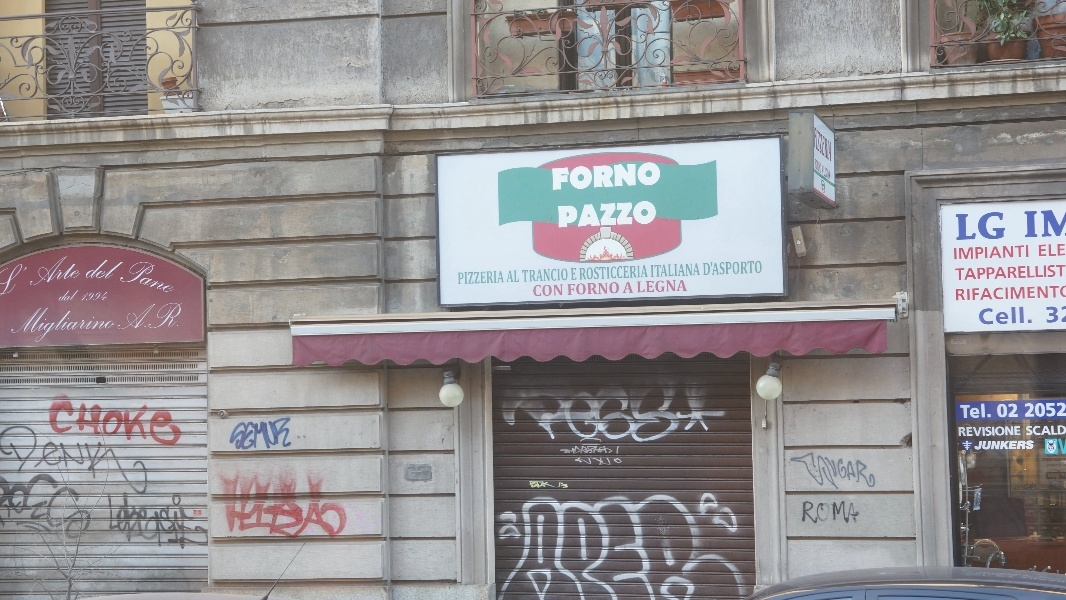text: (529, 493, 544, 599), (545, 493, 560, 599), (561, 493, 576, 599), (577, 493, 592, 599), (593, 493, 608, 599), (609, 493, 624, 599), (625, 493, 640, 599), (641, 493, 656, 599), (657, 493, 672, 599), (673, 493, 688, 599), (689, 493, 704, 599), (705, 493, 720, 599), (721, 493, 736, 599), (737, 493, 752, 599), (497, 379, 512, 451), (513, 379, 528, 451), (529, 379, 544, 451), (545, 379, 560, 451), (561, 379, 576, 451), (577, 379, 592, 451), (593, 379, 608, 451), (609, 379, 624, 451), (625, 379, 640, 451), (641, 379, 656, 451), (657, 379, 672, 451), (673, 379, 688, 451), (689, 379, 704, 451), (705, 379, 720, 451), (721, 379, 736, 451), (17, 425, 32, 497), (33, 425, 48, 497), (49, 425, 64, 497), (65, 425, 80, 497), (81, 425, 96, 497), (97, 425, 112, 497), (113, 425, 128, 497), (129, 425, 144, 497), (145, 425, 160, 497), (225, 475, 240, 545), (241, 475, 256, 545), (257, 475, 272, 545), (273, 475, 288, 545), (289, 475, 304, 545), (305, 475, 320, 545), (321, 475, 336, 545), (337, 475, 352, 545), (1, 473, 16, 541), (17, 473, 32, 541), (33, 473, 48, 541), (49, 473, 64, 541), (65, 473, 80, 541), (81, 473, 96, 541), (2, 425, 16, 497), (113, 492, 128, 553), (129, 492, 144, 553), (145, 492, 160, 553), (161, 492, 176, 553), (177, 492, 192, 553), (193, 492, 208, 553), (65, 395, 80, 448), (81, 395, 96, 448), (97, 395, 112, 448), (113, 395, 128, 448), (129, 395, 144, 448), (145, 395, 160, 448), (161, 395, 176, 448), (50, 395, 64, 448), (801, 449, 816, 491), (817, 449, 832, 491), (833, 449, 848, 491), (849, 449, 864, 491), (865, 449, 880, 491), (145, 256, 160, 295), (161, 256, 176, 295), (33, 306, 48, 345), (49, 306, 64, 345), (65, 306, 80, 345), (81, 306, 96, 345), (97, 306, 112, 345), (49, 254, 64, 291), (65, 254, 80, 291), (241, 418, 256, 454), (257, 418, 272, 454), (273, 418, 288, 454), (817, 127, 832, 163), (523, 493, 528, 599), (788, 449, 800, 491), (2, 263, 16, 298), (641, 201, 657, 231), (177, 395, 186, 448), (561, 201, 576, 231), (577, 201, 592, 231), (593, 201, 608, 231), (609, 201, 624, 231), (625, 201, 640, 231), (1025, 210, 1040, 240), (1041, 210, 1056, 240), (145, 302, 160, 332), (161, 302, 176, 332), (561, 162, 576, 191), (577, 162, 592, 191), (593, 162, 608, 191), (609, 162, 624, 191), (625, 162, 640, 191), (641, 162, 656, 191), (753, 493, 757, 599), (961, 213, 976, 241), (977, 213, 992, 241), (801, 501, 816, 527), (817, 501, 832, 527), (833, 501, 848, 527), (849, 501, 863, 527), (993, 213, 1006, 241), (230, 418, 240, 454), (23, 306, 32, 345), (219, 475, 224, 545), (561, 444, 576, 467), (577, 444, 592, 467), (593, 444, 608, 467), (609, 444, 624, 467), (136, 256, 144, 295), (113, 258, 126, 282), (817, 159, 831, 181), (107, 492, 112, 553), (40, 254, 48, 291), (161, 425, 165, 497), (961, 402, 976, 421), (977, 402, 992, 421), (17, 263, 25, 298), (1025, 402, 1040, 420), (1041, 402, 1056, 420), (993, 308, 1008, 326), (1009, 308, 1024, 326), (551, 162, 560, 191), (961, 265, 976, 282), (977, 265, 992, 282), (993, 265, 1008, 282), (1009, 265, 1024, 282), (1025, 265, 1040, 282), (1041, 265, 1056, 282), (978, 308, 992, 326), (995, 401, 1008, 420), (1009, 401, 1022, 420), (593, 265, 608, 281), (609, 265, 624, 281), (625, 265, 640, 281), (705, 260, 720, 276), (721, 260, 736, 276), (737, 260, 752, 276), (961, 285, 976, 301), (977, 285, 992, 301), (993, 285, 1008, 301), (1009, 285, 1024, 301), (1025, 285, 1040, 301), (1041, 285, 1056, 301), (1057, 210, 1065, 240), (102, 258, 112, 282), (136, 302, 144, 332), (177, 302, 185, 332), (177, 256, 183, 295), (1045, 305, 1056, 326), (465, 271, 480, 286), (481, 271, 496, 286), (961, 246, 976, 261), (977, 246, 992, 261), (993, 246, 1008, 261), (1009, 246, 1024, 261), (493, 379, 496, 451), (529, 269, 544, 283), (545, 269, 560, 283), (657, 264, 672, 278), (673, 264, 688, 278), (641, 280, 656, 294), (657, 280, 672, 294), (673, 280, 688, 294), (1041, 244, 1056, 258), (579, 265, 592, 281), (66, 289, 80, 303), (545, 285, 560, 298), (577, 283, 592, 296), (593, 283, 608, 296), (961, 425, 976, 438), (977, 425, 992, 438), (993, 425, 1008, 438), (1041, 424, 1056, 437), (977, 440, 992, 453), (993, 440, 1008, 453), (1009, 440, 1024, 453), (113, 306, 118, 345), (1057, 305, 1066, 326), (689, 264, 702, 278), (1009, 425, 1023, 438), (1026, 424, 1040, 437), (289, 418, 294, 454), (1025, 308, 1035, 326), (1057, 402, 1066, 420), (753, 260, 763, 276), (627, 282, 640, 294), (1057, 265, 1066, 282), (529, 482, 544, 492), (545, 482, 560, 492), (609, 283, 620, 296), (83, 292, 96, 303), (955, 213, 960, 241), (353, 475, 355, 545), (497, 271, 506, 286), (97, 292, 109, 303), (534, 285, 544, 298), (1025, 440, 1035, 453), (641, 265, 649, 281), (1058, 439, 1066, 455), (561, 269, 570, 283), (1057, 244, 1066, 258), (567, 283, 576, 296), (1057, 424, 1066, 437), (657, 162, 661, 191), (561, 482, 572, 492), (954, 265, 960, 282), (458, 271, 464, 286), (954, 246, 960, 261), (513, 271, 520, 283), (522, 269, 528, 283), (993, 402, 997, 421), (1025, 246, 1030, 261), (651, 264, 656, 278), (557, 444, 560, 467), (625, 444, 628, 467), (97, 473, 98, 541), (956, 285, 960, 301), (1057, 285, 1061, 301), (209, 492, 210, 553), (558, 201, 560, 231), (571, 269, 576, 280), (1062, 285, 1066, 298), (637, 280, 640, 294), (881, 449, 882, 491), (561, 285, 564, 298), (509, 271, 512, 283), (815, 127, 816, 163), (1023, 210, 1024, 240), (1038, 244, 1040, 258), (815, 159, 816, 181), (1023, 402, 1024, 420), (703, 260, 704, 276), (959, 425, 960, 438), (577, 269, 578, 280), (527, 482, 528, 492)
